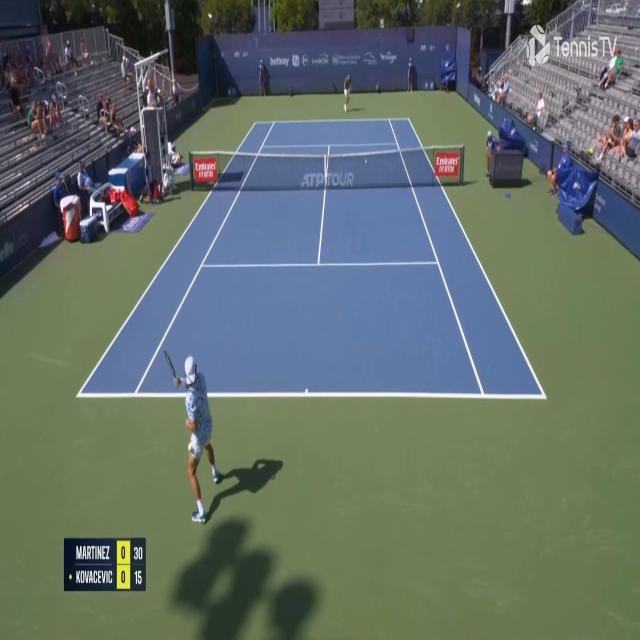tennis-player: (164, 350, 223, 528), (342, 72, 353, 114)
